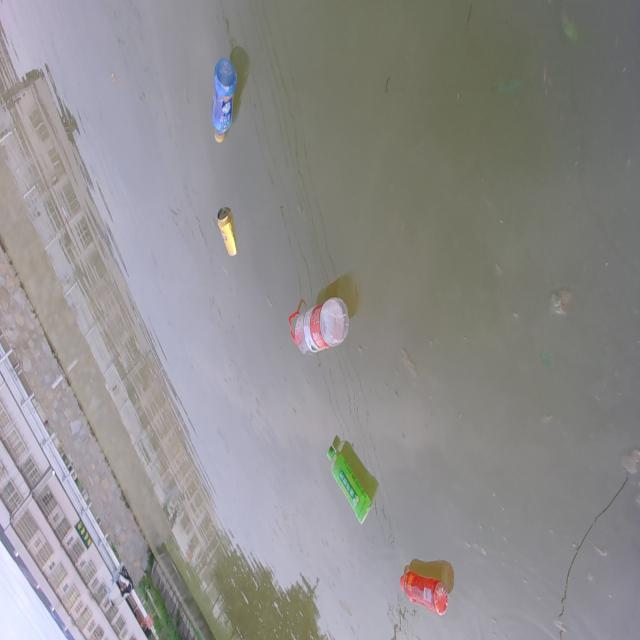garbage: (326, 434, 379, 524), (289, 295, 350, 355), (211, 57, 237, 143)
